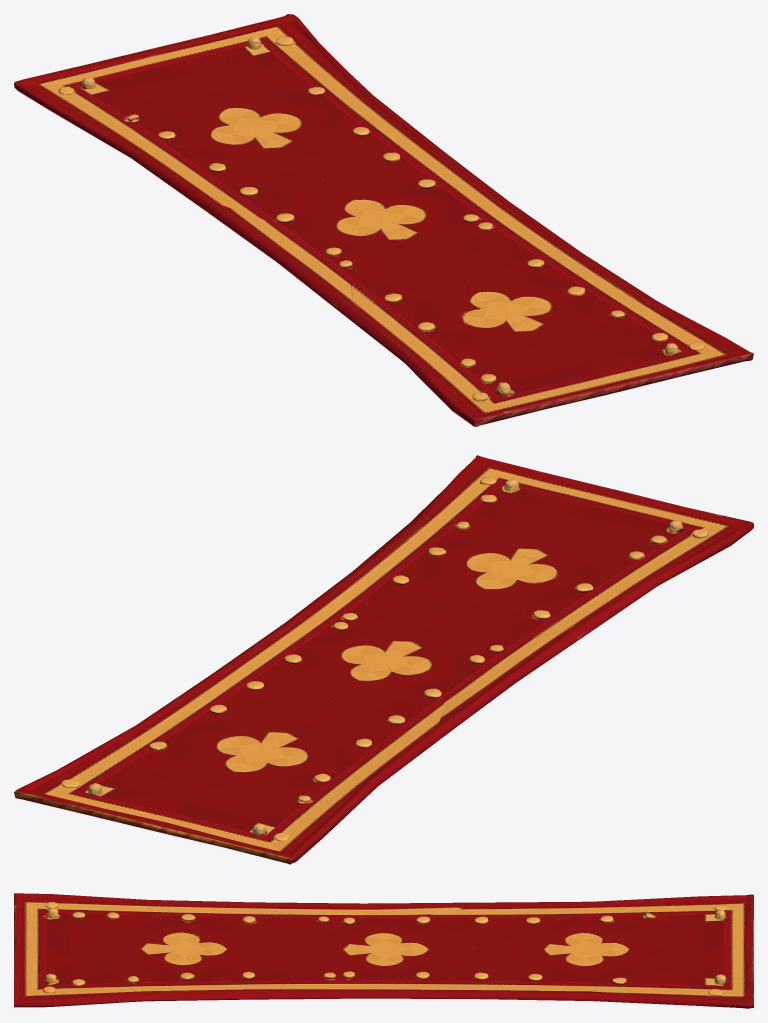
File: Meshy_AI_model.fbx
The picture shows the model from 3 angles, top to bottom: view 1: azimuth 30°, elevation 25°; view 2: azimuth 150°, elevation 25°; view 3: azimuth 270°, elevation 25°; orthographic projection. The views are drawn at different scales.
Visible parts, largest first — view 1: Mesh_0; view 2: Mesh_0; view 3: Mesh_0.
Part boxes in pixels (x1,y1,x2,y2): Mesh_0: [14, 14, 753, 426]; Mesh_0: [14, 455, 753, 864]; Mesh_0: [14, 893, 753, 1008].
Size of the model in its own units: 35.48 by 1.68 by 100.
Materials: 1 (1 with a texture image).
